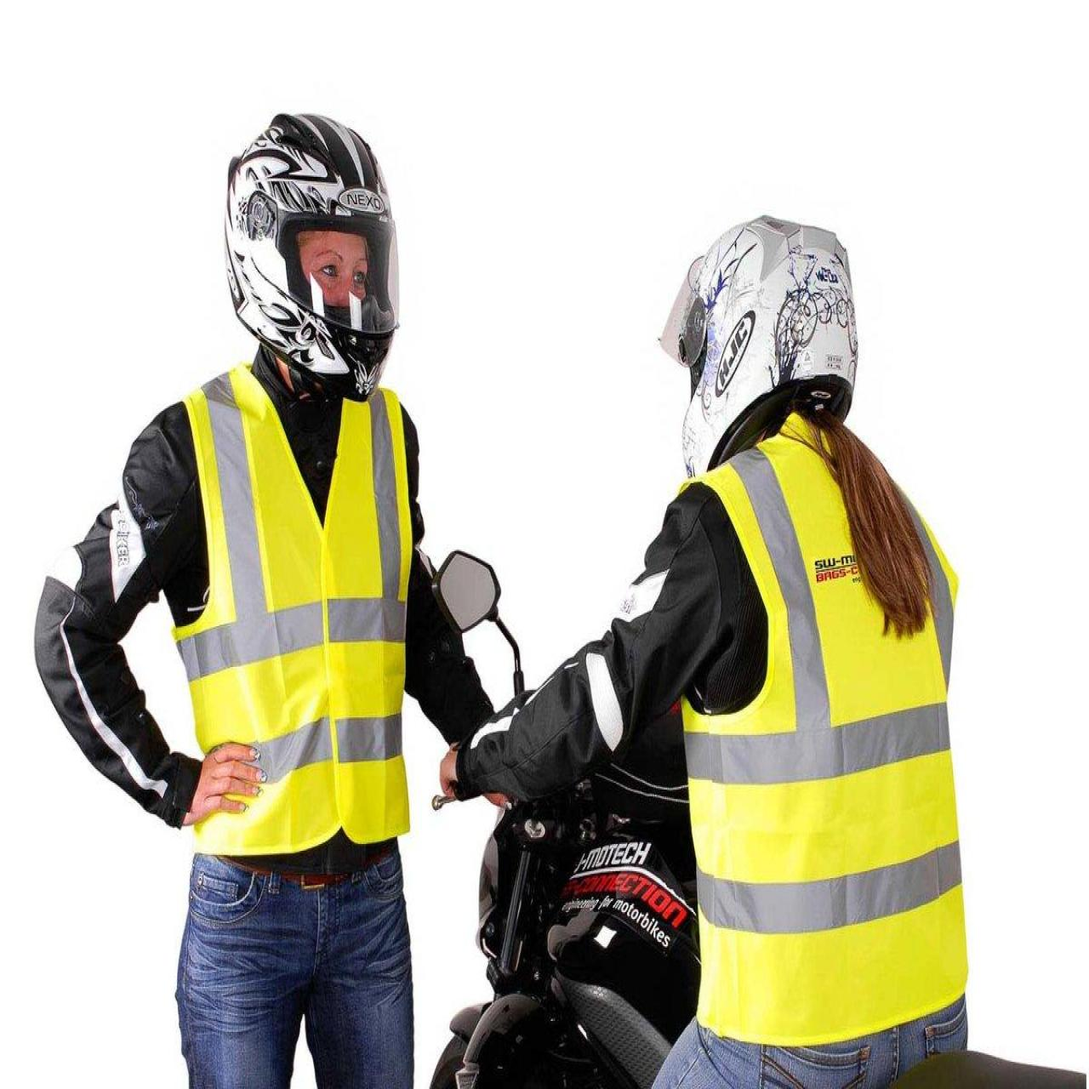Person: (437, 109, 1032, 1089), (8, 70, 534, 1089)
Safety_Vest: (651, 442, 977, 1026), (149, 355, 421, 855)
